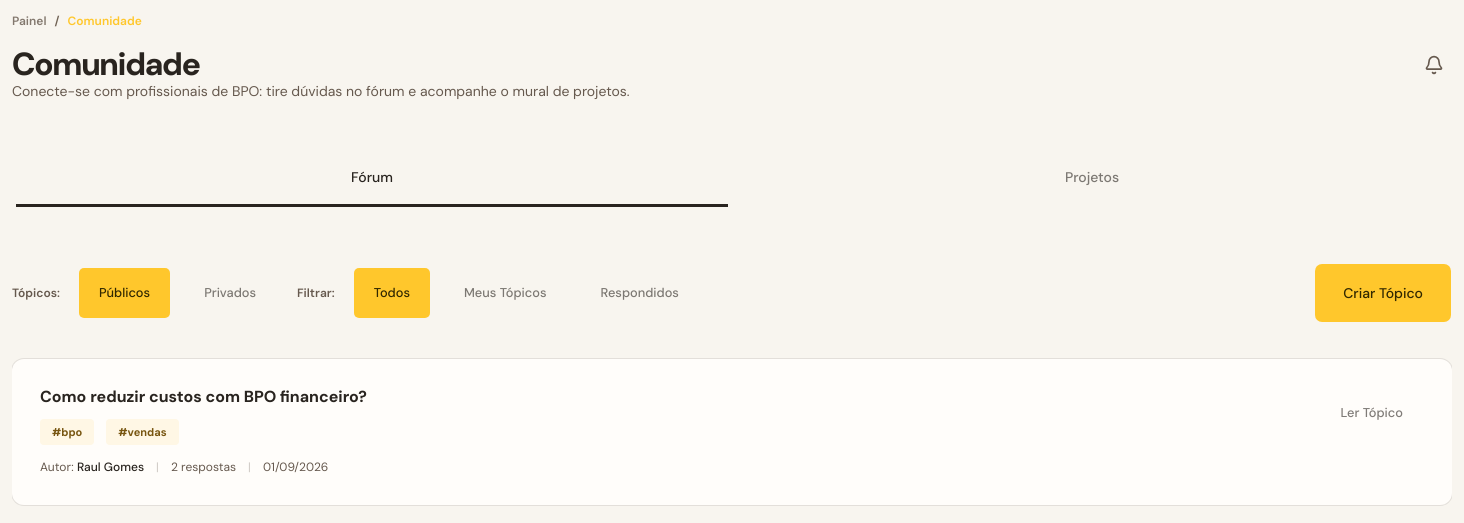
Scenario: NetworkPage - abas Fórum e Projetos › Fórum privado mostra os tópicos privados unificados
Click the button "Privados": [230, 293] box [183,267,277,319]
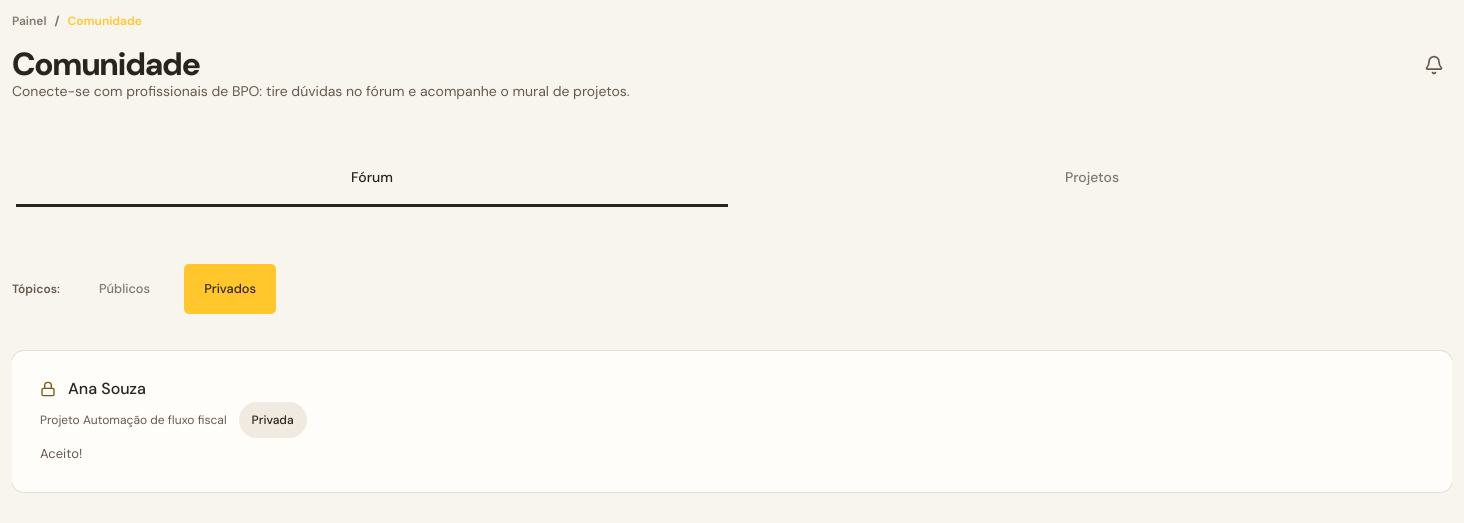
Expected: the link "Ana Souza" is shown, [68,379,146,399]
Expected: the text "Projeto Automação de fluxo fiscal" is shown, [40,410,227,430]
Expected: the text "Privada" is shown, [239,402,307,438]
